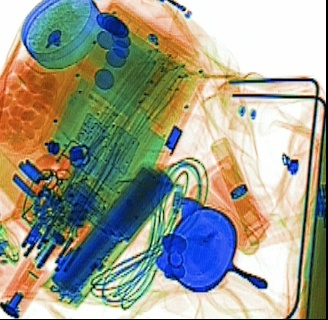powerbank: (50, 159, 174, 307)
